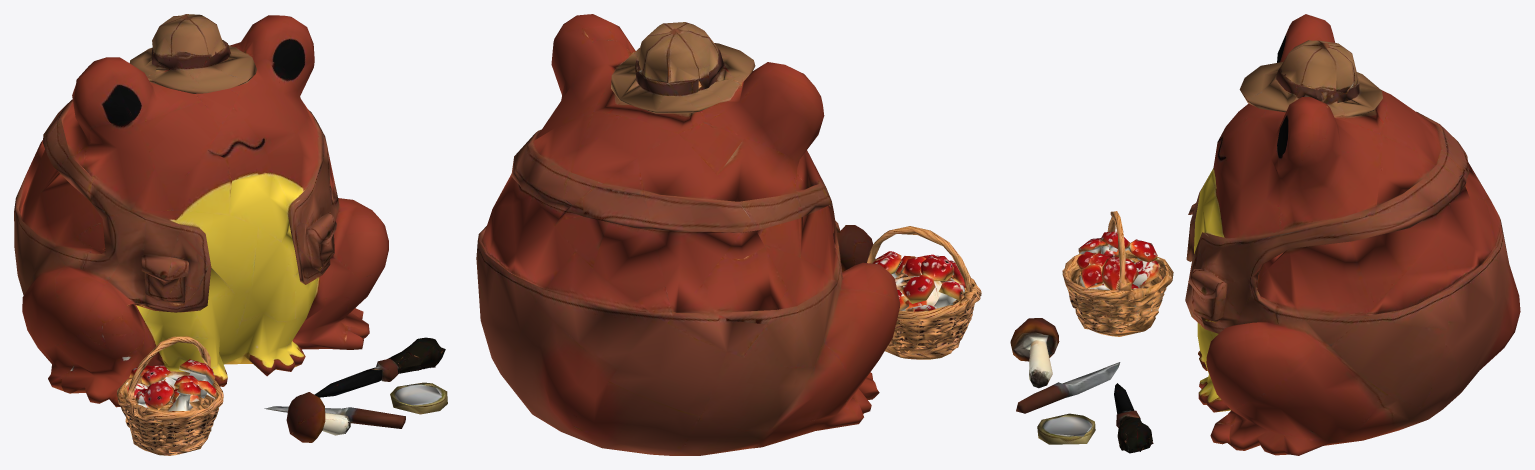
File: russule.glb
3 renders of one model, left to right at view 1: azimuth 30°, elevation 25°; view 2: azimuth 150°, elevation 25°; view 3: azimuth 270°, elevation 25°, orthographic. The views are drawn at different scales.
Parts seen in each view (by area): view 1: mesh_node; view 2: mesh_node; view 3: mesh_node.
Boxes of the visible parts, x1,y1,x2,y2 form: mesh_node: (14, 14, 447, 455); mesh_node: (476, 14, 981, 455); mesh_node: (1010, 14, 1520, 455).
Bounding box in the file's own units: 1.49 × 1.39 × 1.9.
1 material, 1 textured.
